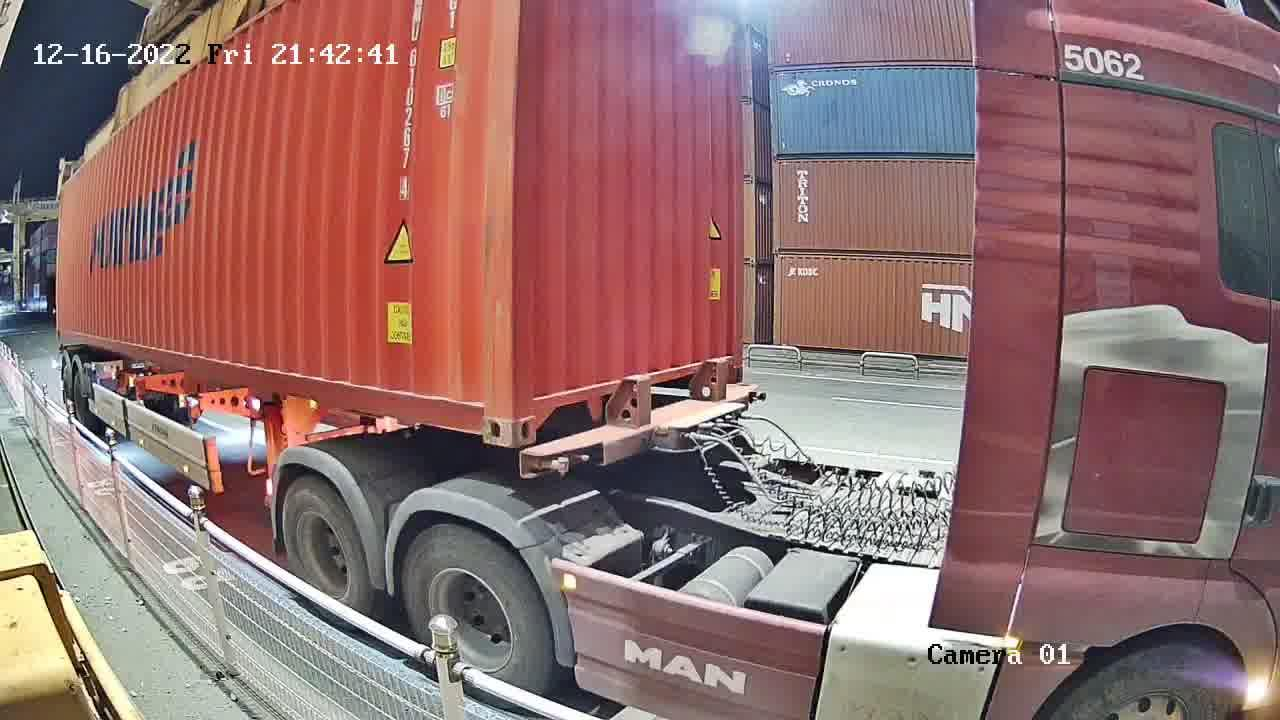Chassis: (522, 384, 764, 480)
Hole_L: (514, 365, 575, 449)
Hole_R: (436, 366, 512, 446)
Tire: (402, 525, 550, 692), (281, 477, 370, 613)
